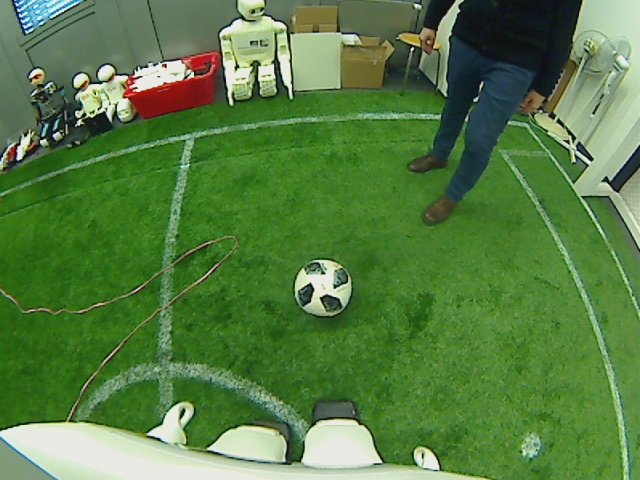ball: (291, 258, 353, 318)
